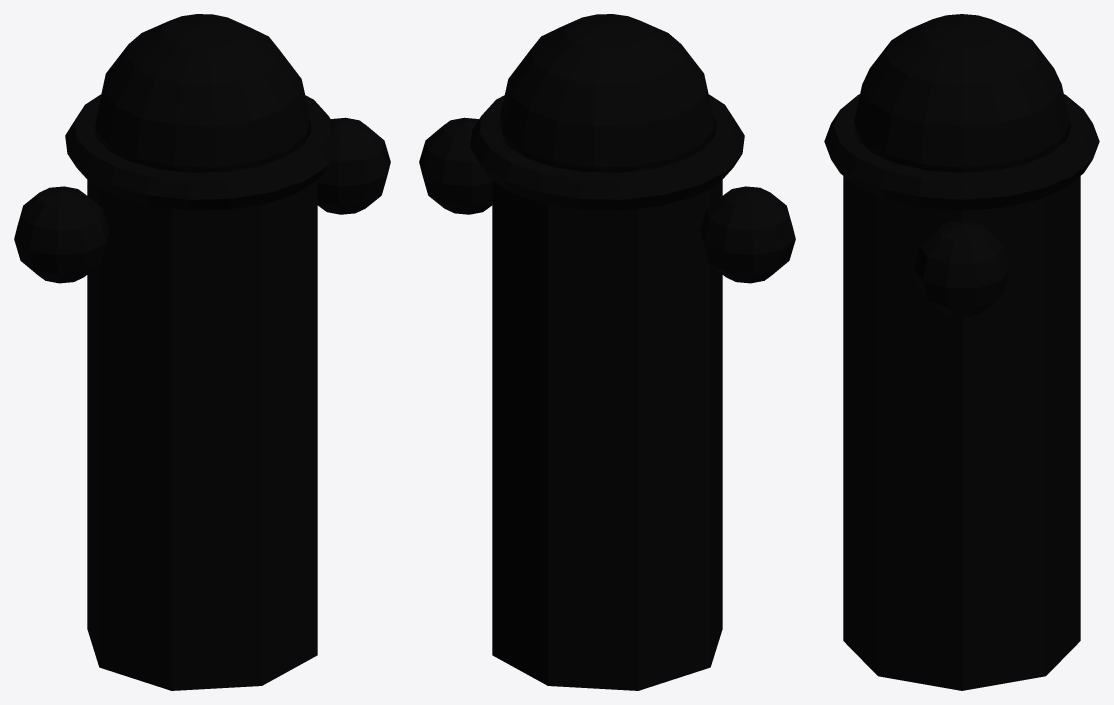
The model's file is upgrade_brass_compass.unity-fbx.fbx.
The picture shows the model from 3 angles, left to right: view 1: azimuth 30°, elevation 25°; view 2: azimuth 150°, elevation 25°; view 3: azimuth 270°, elevation 25°; orthographic projection.
Visible parts, largest first — view 1: upgrade_brass_compass_mesh; view 2: upgrade_brass_compass_mesh; view 3: upgrade_brass_compass_mesh.
Boxes of the visible parts, left/top/right/bottom form: upgrade_brass_compass_mesh: left=14, top=14, right=390, bottom=690; upgrade_brass_compass_mesh: left=419, top=14, right=795, bottom=690; upgrade_brass_compass_mesh: left=824, top=14, right=1099, bottom=690.
Size of the model in its own units: 0.7712 by 1.26 by 0.51.
1 material, 1 textured.
